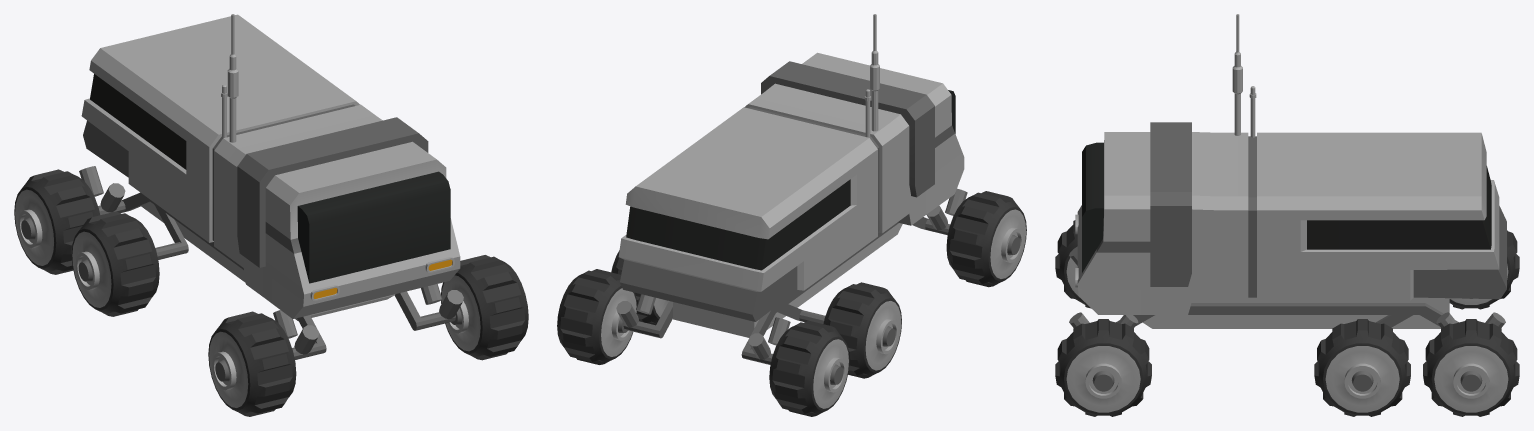
File: Rover.glb
The picture shows the model from 3 angles, left to right: view 1: azimuth 30°, elevation 25°; view 2: azimuth 150°, elevation 25°; view 3: azimuth 270°, elevation 25°; orthographic projection. The views are drawn at different scales.
Parts seen in each view (by area): view 1: Wheel_1.001; view 2: Wheel_1.001; view 3: Wheel_1.001.
Part boxes in pixels (bbox=[...]): Wheel_1.001: bbox=[14, 14, 528, 416]; Wheel_1.001: bbox=[557, 14, 1026, 416]; Wheel_1.001: bbox=[1055, 14, 1519, 416].
Bounding box in the file's own units: 4.58 × 4.88 × 6.56.
1 material, 1 textured.
